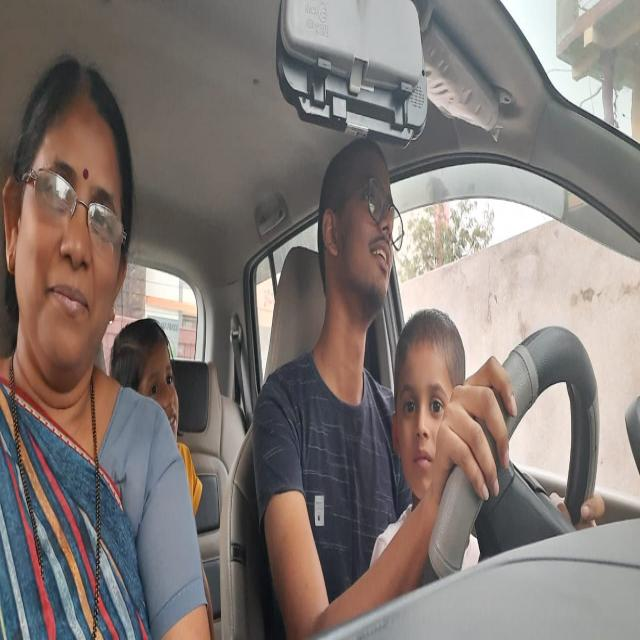child: (391, 316, 465, 484)
person: (7, 72, 132, 374), (322, 146, 399, 313), (133, 315, 189, 448)
